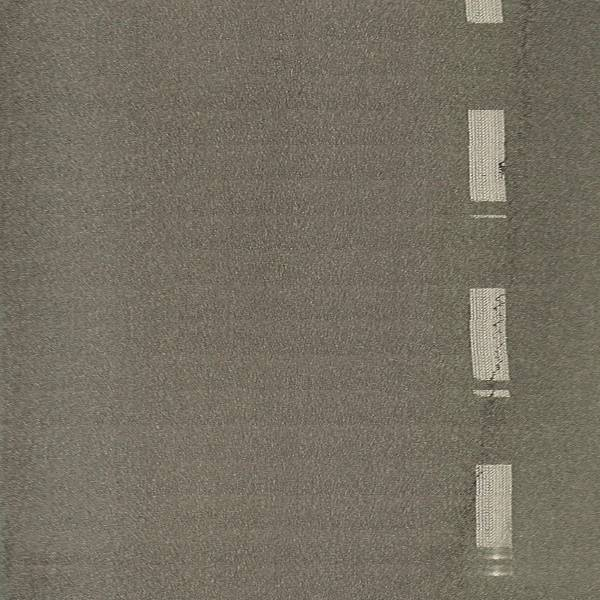road_damage: (467, 272, 511, 537)
